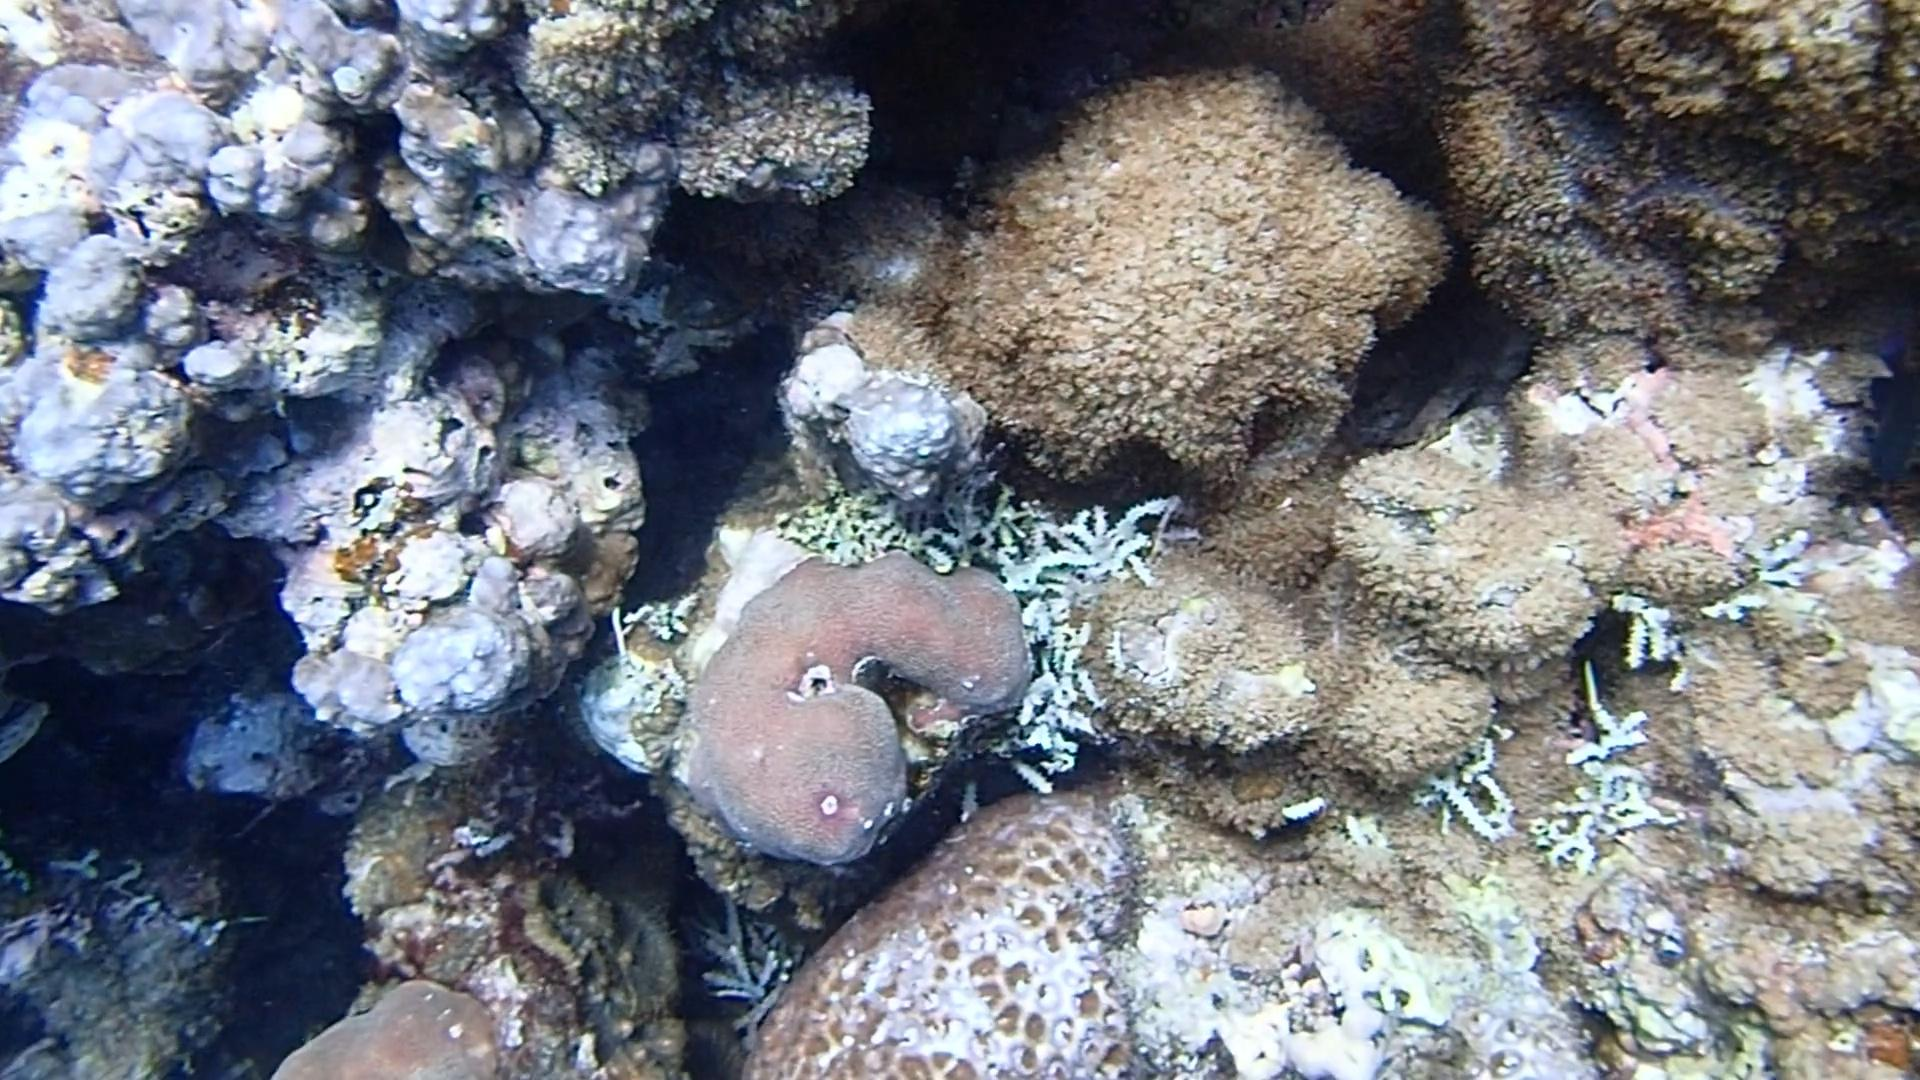Dark Fish: (1853, 322, 1920, 496)
